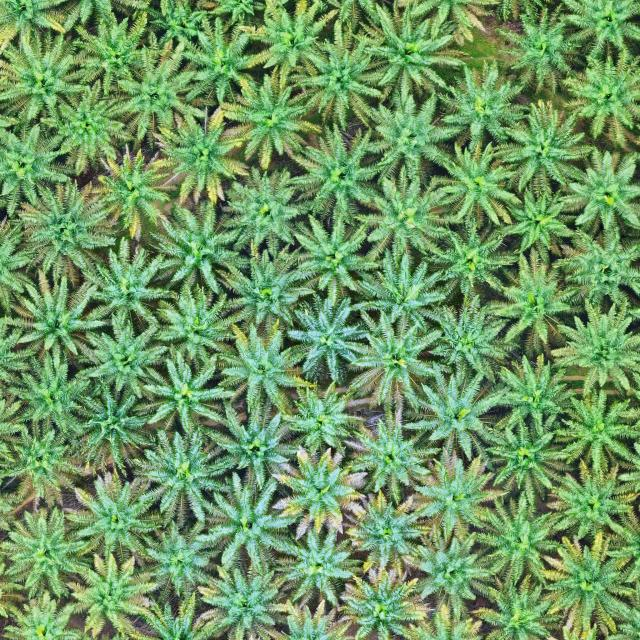Tree: (105, 35, 207, 158), (352, 0, 462, 111), (16, 170, 119, 288), (286, 120, 397, 228), (195, 468, 304, 576), (353, 162, 468, 264), (402, 359, 513, 463), (537, 528, 640, 639), (0, 267, 107, 372), (349, 300, 446, 415), (360, 88, 468, 191), (58, 467, 165, 570), (214, 233, 318, 336), (270, 441, 374, 543), (147, 108, 250, 210), (219, 73, 323, 173), (217, 319, 321, 417), (130, 349, 238, 443), (145, 198, 246, 298), (494, 95, 594, 196), (36, 76, 137, 176), (285, 210, 385, 310), (468, 488, 566, 590), (80, 140, 174, 245), (202, 397, 308, 490), (413, 442, 510, 542), (128, 429, 222, 532), (0, 25, 93, 128), (432, 56, 533, 150), (347, 411, 445, 507), (0, 503, 91, 606), (422, 137, 522, 230), (78, 234, 180, 324), (69, 0, 162, 98), (480, 258, 574, 354), (64, 384, 160, 478), (484, 408, 576, 506), (72, 308, 170, 400), (64, 550, 166, 637), (5, 348, 90, 452), (154, 279, 248, 373), (426, 293, 522, 385), (286, 289, 375, 388), (292, 39, 384, 134), (351, 243, 448, 333), (552, 293, 640, 392), (564, 139, 640, 250), (342, 488, 436, 577), (496, 0, 582, 97), (218, 165, 306, 258), (175, 20, 264, 111), (564, 46, 640, 152), (275, 524, 367, 611), (542, 454, 634, 541), (554, 219, 640, 312), (492, 350, 578, 441), (431, 218, 525, 301), (550, 383, 640, 467), (196, 563, 294, 640), (402, 525, 497, 603), (242, 2, 332, 84), (0, 119, 73, 220), (280, 378, 370, 458), (139, 520, 221, 606), (4, 426, 84, 510), (504, 181, 578, 266), (470, 571, 561, 640), (338, 568, 425, 639), (558, 0, 640, 68)
